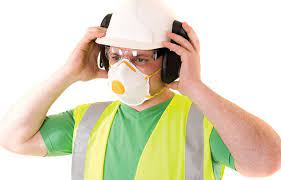Helmet: (93, 4, 179, 54)
Jacket: (71, 104, 217, 180)
Mask: (104, 64, 157, 107)
